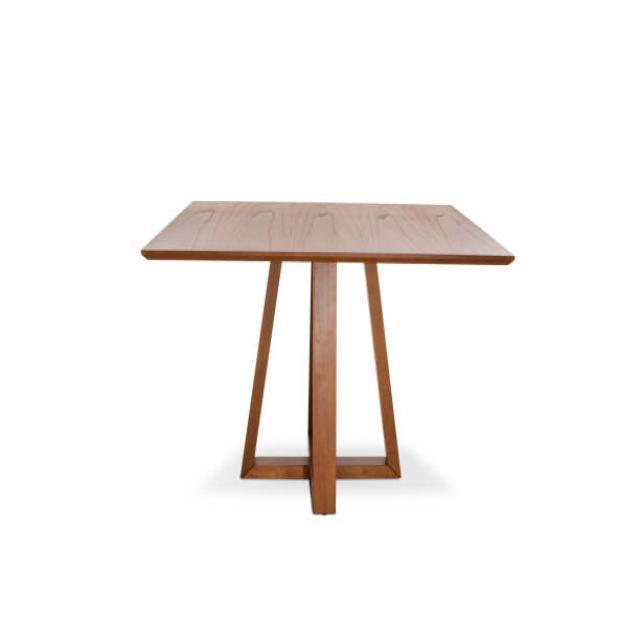table: (140, 198, 515, 514)
